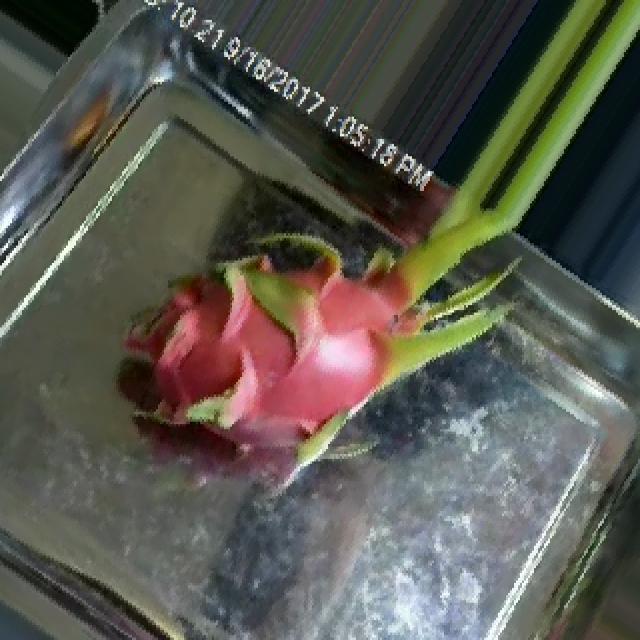fruit: (140, 102, 578, 540)
